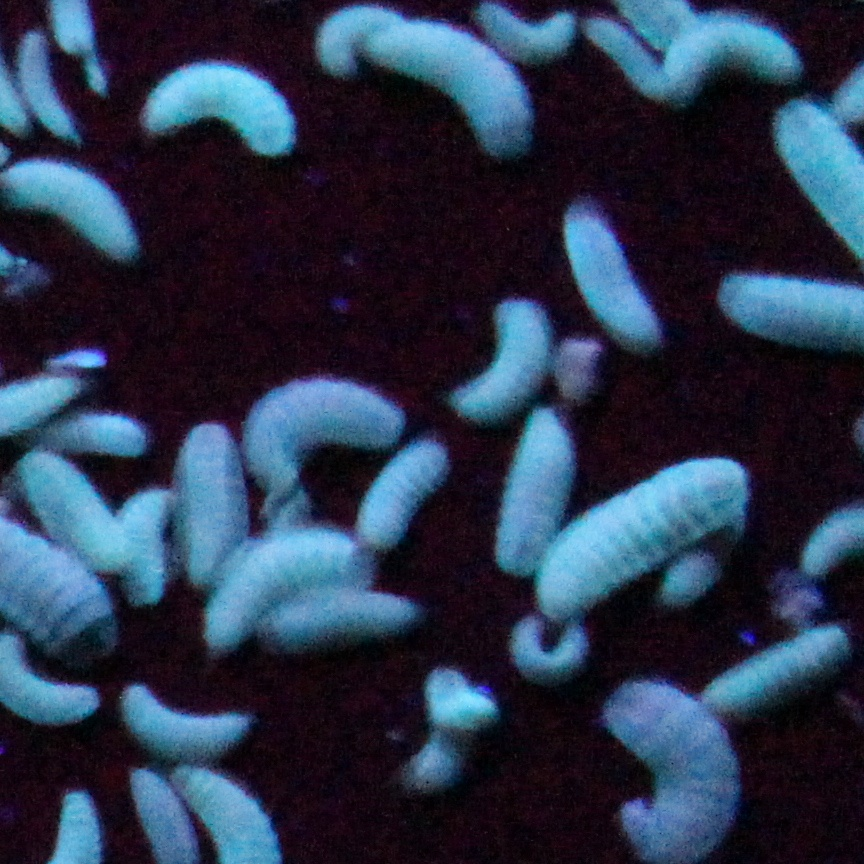larve: (543, 447, 764, 613), (364, 8, 539, 156), (141, 54, 311, 165), (202, 533, 375, 640), (243, 372, 404, 479), (554, 192, 664, 342), (484, 413, 575, 576), (20, 445, 136, 570), (652, 17, 802, 104), (7, 158, 136, 258), (452, 297, 554, 413), (700, 633, 850, 708), (118, 681, 252, 763), (348, 449, 445, 545), (184, 420, 239, 585), (264, 592, 427, 645), (9, 24, 77, 145), (307, 6, 416, 74), (125, 485, 175, 608), (516, 601, 591, 683), (584, 20, 659, 95), (484, 8, 584, 63), (64, 406, 145, 456)
